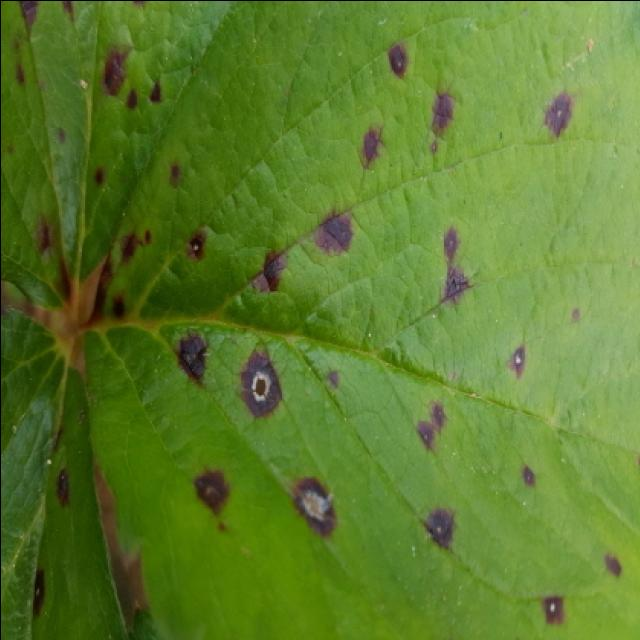Leaf Spot: (81, 2, 640, 640), (2, 2, 238, 313), (2, 302, 130, 640)
